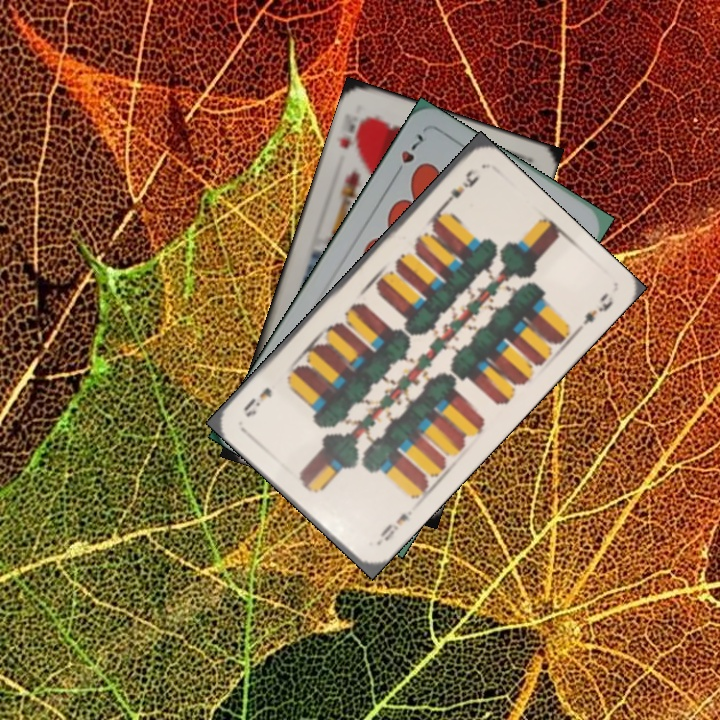E9: (437, 164, 482, 212), (375, 509, 411, 544)
H7: (390, 129, 426, 181)
HK: (334, 111, 370, 154)
